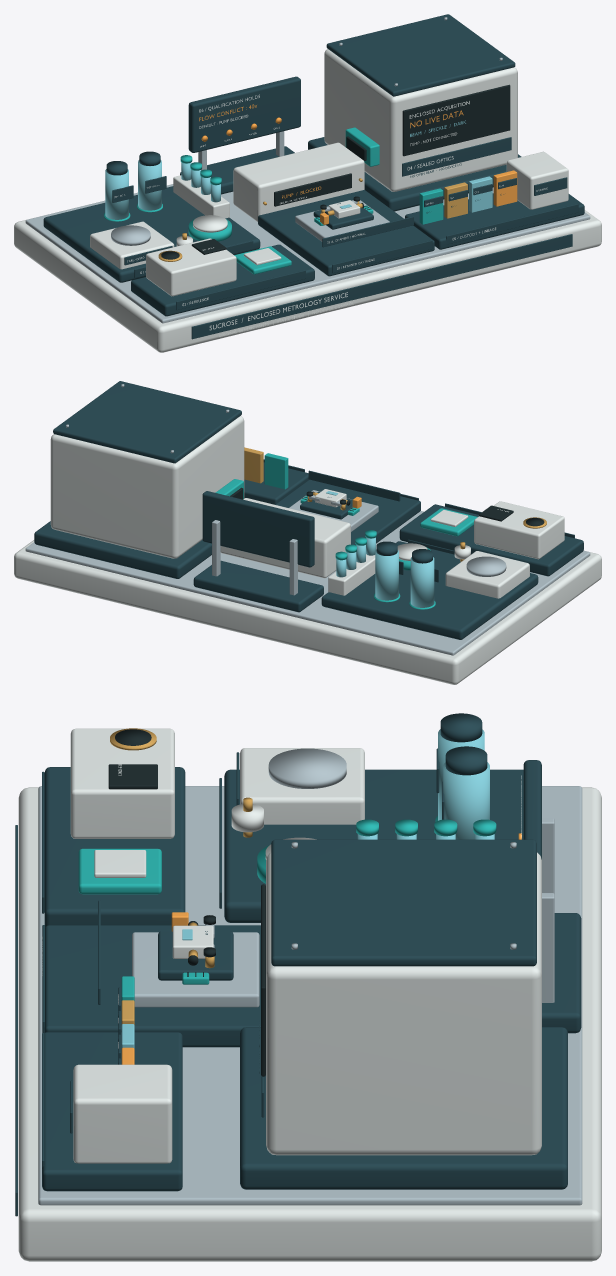
The model's file is sucrose_operations_lab.glb.
3 renders of one model, top to bottom at view 1: azimuth 30°, elevation 25°; view 2: azimuth 150°, elevation 25°; view 3: azimuth 270°, elevation 25°, orthographic. The views are drawn at different scales.
Parts seen in each view (by area): view 1: bench.base, optics.sealed_body, optics.top_lid, bench.inset, holds.panel, pump.closed_proxy, standards.platform, cartridge.platform, bench.title.plate, optics.readout, reference.body, records.platform (+25 smaller); view 2: bench.base, optics.sealed_body, optics.top_lid, bench.inset, standards.platform, holds.panel, optics.footprint, holds.base, reference.body, reference.platform, pump.closed_proxy, cartridge.platform (+15 smaller); view 3: optics.sealed_body, bench.base, optics.top_lid, bench.inset, optics.footprint, cartridge.platform, standards.platform, records.platform, reference.platform, records.archive, reference.body, balance.body (+18 smaller).
Part boxes in pixels (bbox=[...]): bench.base: bbox=[14, 184, 601, 352]; optics.sealed_body: bbox=[324, 49, 517, 191]; optics.top_lid: bbox=[326, 14, 515, 96]; bench.inset: bbox=[25, 184, 590, 323]; holds.panel: bbox=[188, 76, 300, 152]; pump.closed_proxy: bbox=[233, 142, 364, 221]; standards.platform: bbox=[43, 186, 260, 282]; cartridge.platform: bbox=[258, 190, 434, 276]; bench.title.plate: bbox=[191, 234, 572, 339]; optics.readout: bbox=[402, 84, 510, 156]; reference.body: bbox=[146, 238, 236, 296]; records.platform: bbox=[405, 193, 584, 249]; bench.base: bbox=[14, 540, 601, 684]; optics.sealed_body: bbox=[50, 416, 244, 558]; optics.top_lid: bbox=[53, 381, 241, 463]; bench.inset: bbox=[25, 511, 590, 655]; standards.platform: bbox=[321, 541, 538, 639]; holds.panel: bbox=[202, 491, 314, 567]; optics.footprint: bbox=[34, 521, 211, 578]; holds.base: bbox=[193, 560, 323, 612]; reference.body: bbox=[474, 501, 564, 559]; reference.platform: bbox=[399, 504, 583, 576]; pump.closed_proxy: bbox=[220, 498, 350, 578]; cartridge.platform: bbox=[275, 479, 420, 545]; optics.sealed_body: bbox=[266, 852, 541, 1155]; bench.base: bbox=[18, 787, 601, 1261]; optics.top_lid: bbox=[271, 839, 536, 966]; bench.inset: bbox=[38, 786, 582, 1205]; optics.footprint: bbox=[240, 1027, 567, 1189]; cartridge.platform: bbox=[44, 925, 260, 1047]; standards.platform: bbox=[224, 769, 523, 922]; records.platform: bbox=[42, 1032, 182, 1191]; reference.platform: bbox=[44, 767, 185, 927]; records.archive: bbox=[73, 1064, 172, 1163]; reference.body: bbox=[70, 728, 174, 838]; balance.body: bbox=[240, 748, 364, 824].
Bounding box in the file's own units: 1.95 × 0.6465 × 1.13.
